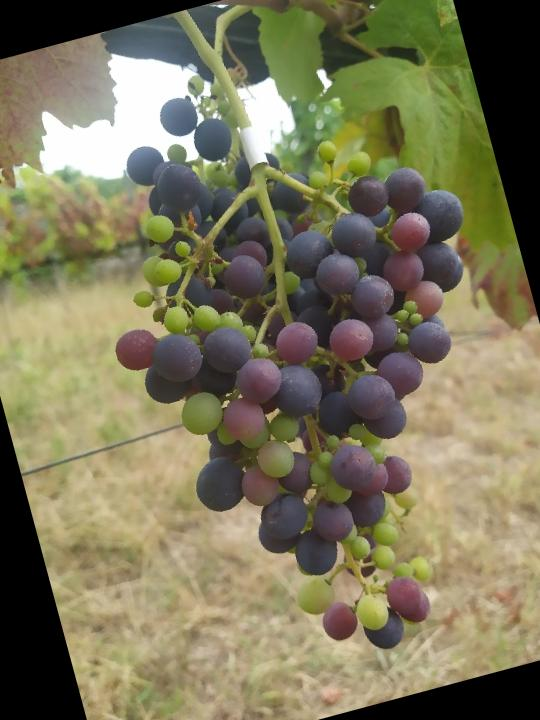grape: (51, 16, 540, 701)
